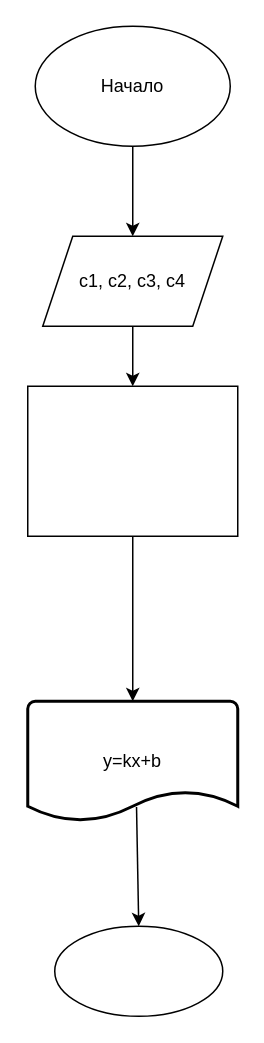
The diagram is 264 pixels wide and 1043 high, and some of its shapes have lost their labels. Each missing label, with the centre of its shape:
k=(c4-c2)/(c3-c1) b=c2-k*c1: [132,460]
Конец: [138,970]
